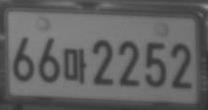2: (170, 43, 192, 89), (118, 41, 140, 86), (92, 40, 113, 85)
5: (144, 42, 167, 87)
6: (11, 36, 34, 82), (38, 37, 60, 83)
마: (63, 48, 87, 84)
